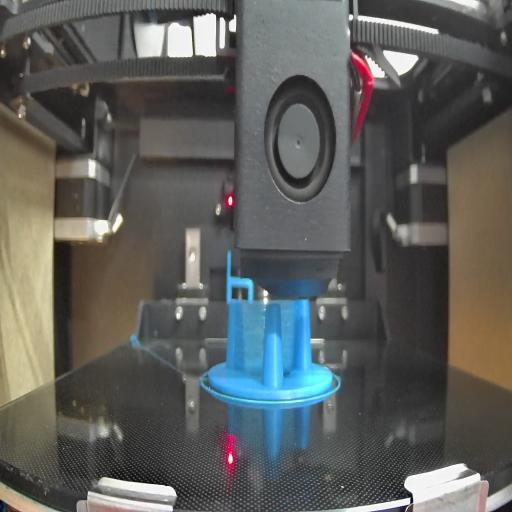stringing: (233, 298, 265, 388), (282, 300, 300, 380)
